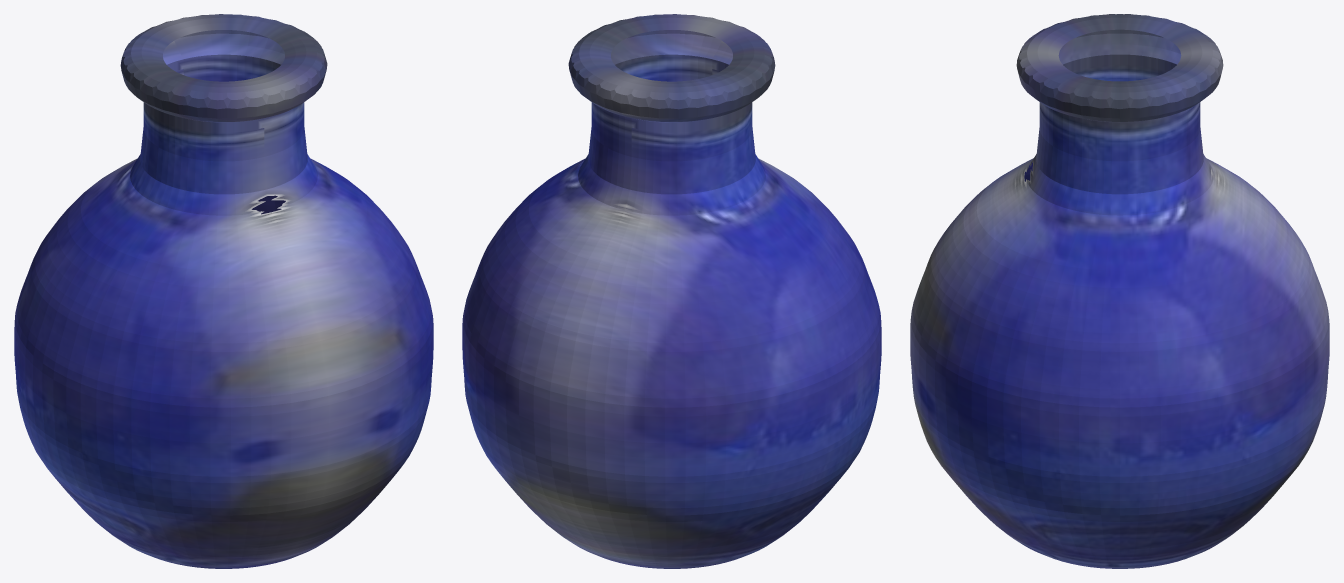
Rendered from mana_jar.obj.
3 renders of one model, left to right at view 1: azimuth 30°, elevation 25°; view 2: azimuth 150°, elevation 25°; view 3: azimuth 270°, elevation 25°, orthographic.
Visible parts, largest first — view 1: Cube; view 2: Cube; view 3: Cube.
Part boxes in pixels (<box>): Cube: <box>14,14,433,568</box>; Cube: <box>462,14,881,568</box>; Cube: <box>910,14,1329,568</box>.
Bounding box in the file's own units: 6.11 × 7.79 × 6.11.
